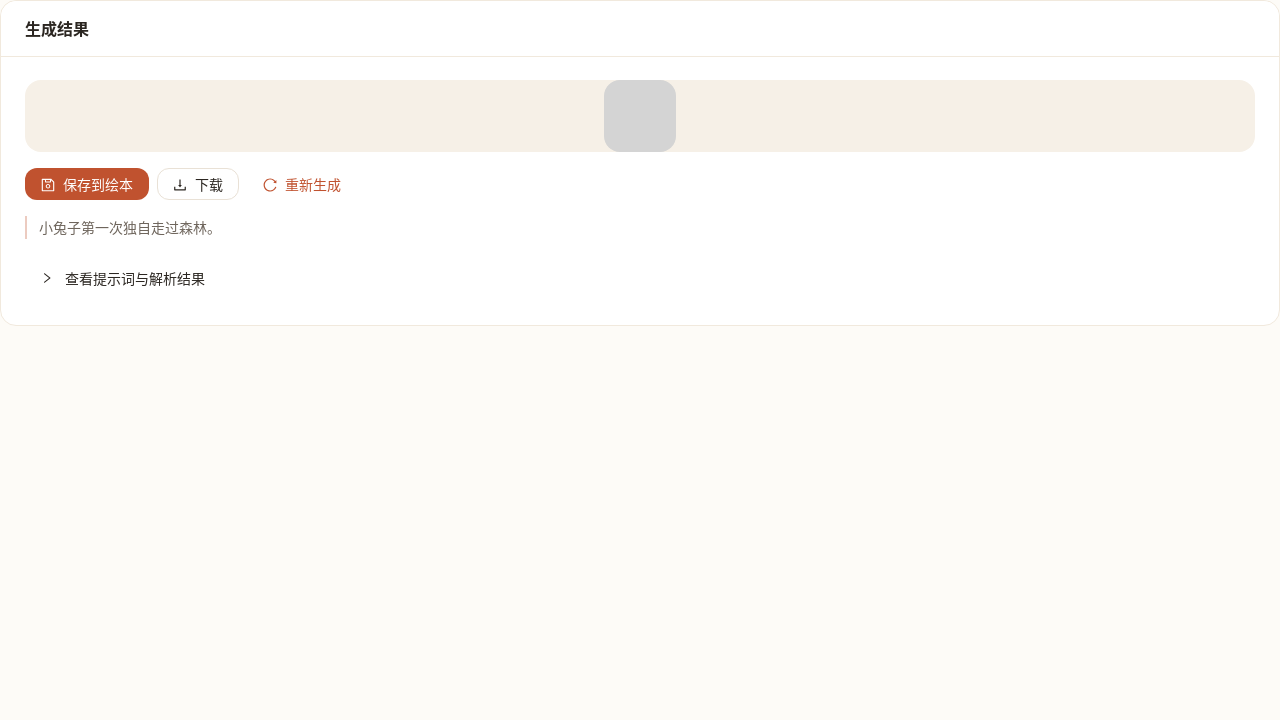
it: ResultPreview 降噪与操作重排（docs/17 §4.5） › 原文为引用块，详情默认收起
The width and height of the screenshot is (1280, 720).
Expected: the text "小兔子第一次独自走过森林。" is shown, x1=25 y1=216 x2=1255 y2=239
Expected: the text "小兔子提着灯笼" is not shown
Click the button "查看提示词与解析结果": (123, 278) x1=41 y1=268 x2=205 y2=288
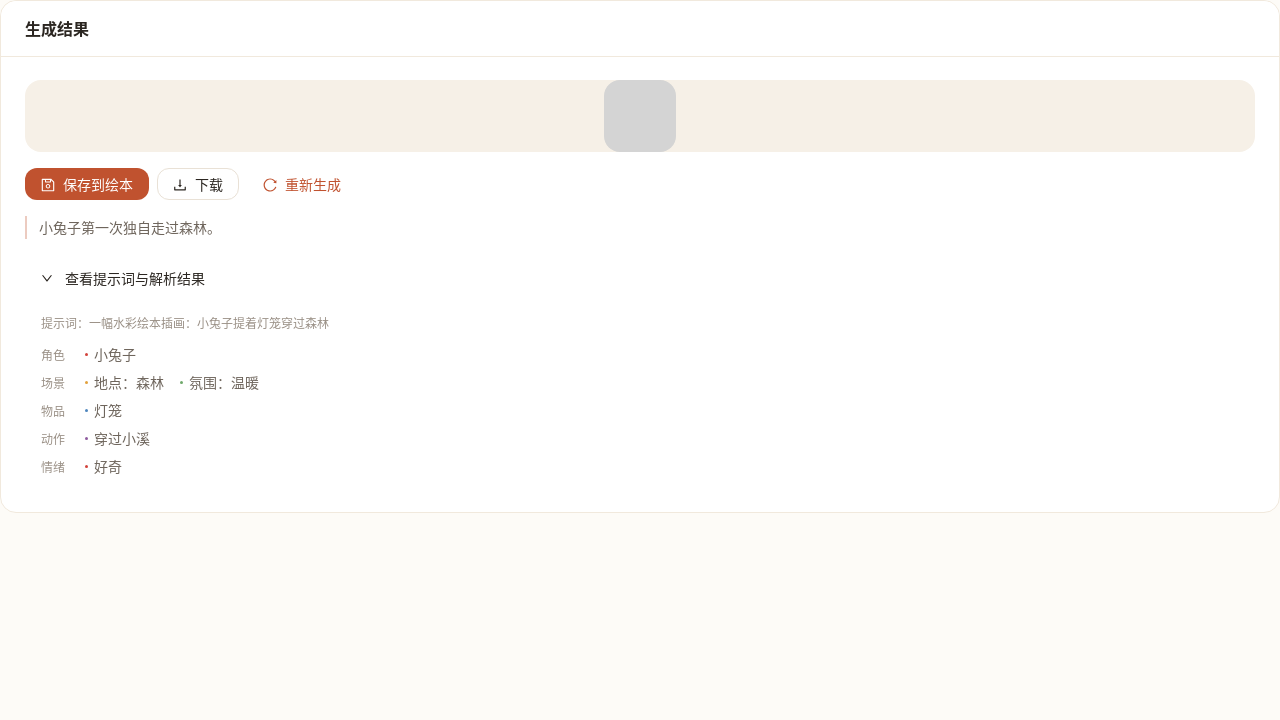
Expected: the text "提示词：一幅水彩绘本插画：小兔子提着灯笼穿过森林" is shown, x1=41 y1=314 x2=329 y2=331
